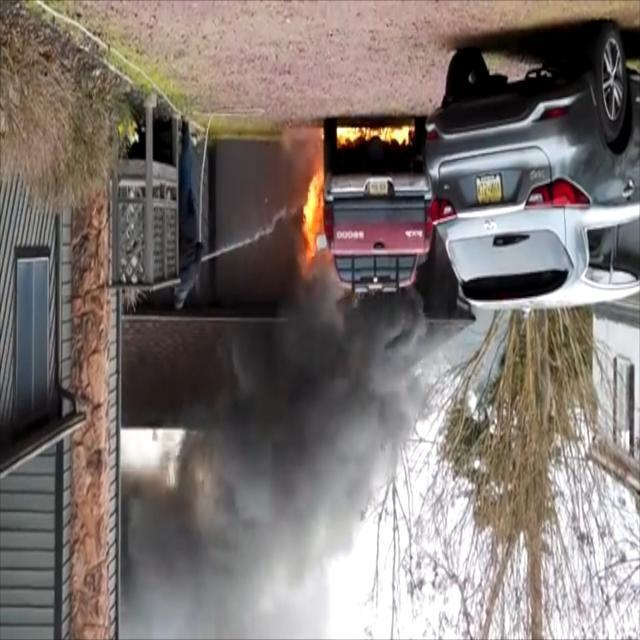fire: (293, 133, 338, 287), (330, 122, 416, 150)
